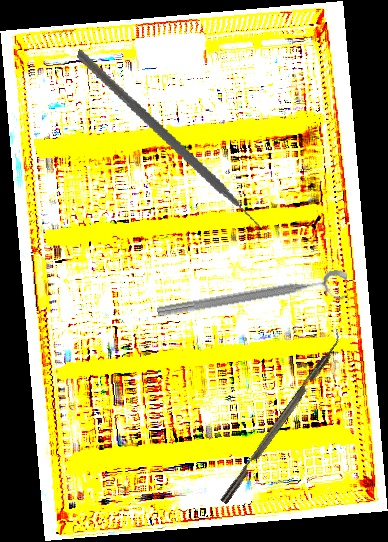Chopper: (45, 49, 291, 249), (211, 326, 349, 505)
Fixation Ring: (155, 268, 352, 333)
